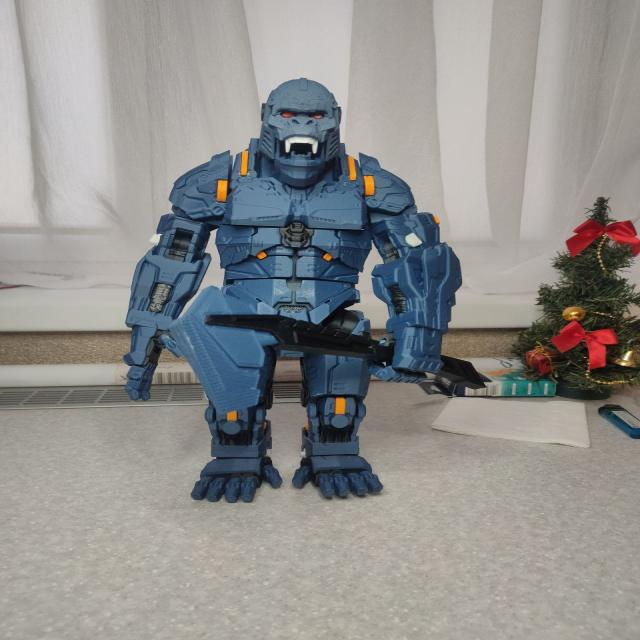Without deffect: (126, 63, 458, 507)
